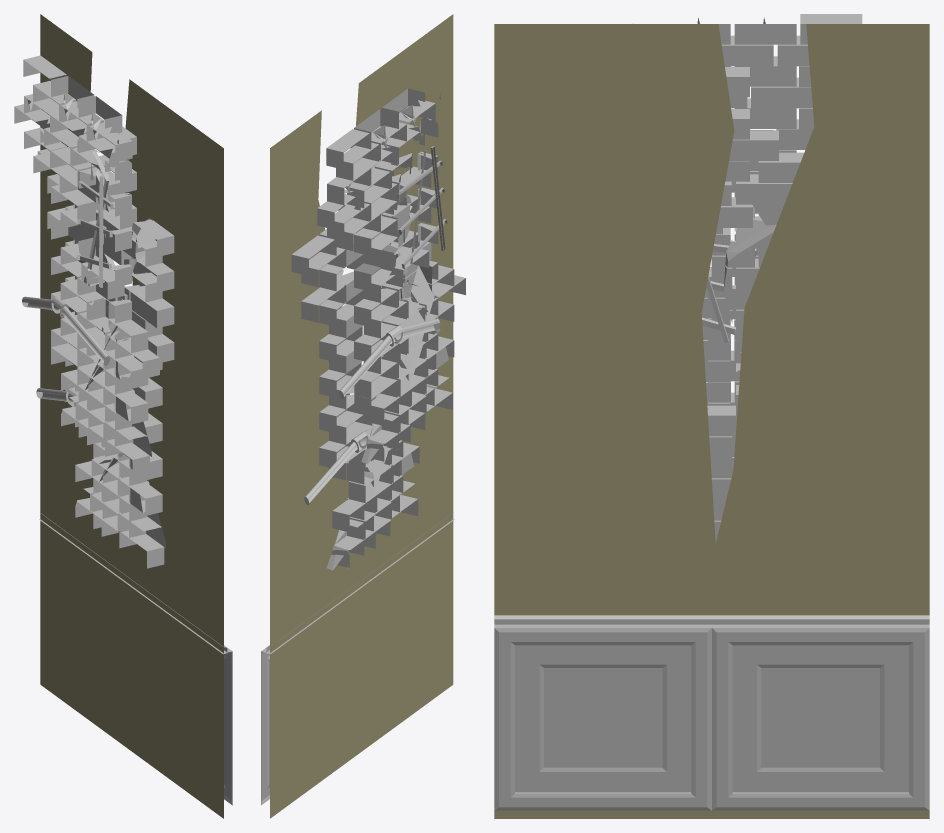
Rendered from Wall_1UnitBroken_Mesh.fbx.
The picture shows the model from 3 angles, left to right: view 1: azimuth 30°, elevation 25°; view 2: azimuth 150°, elevation 25°; view 3: azimuth 270°, elevation 25°; orthographic projection. The views are drawn at different scales.
Visible parts, largest first — view 1: Wall_1Unit_Broken; view 2: Wall_1Unit_Broken; view 3: Wall_1Unit_Broken.
Boxes of the visible parts, x1=… form: Wall_1Unit_Broken: x1=14, y1=14, x2=232, y2=818; Wall_1Unit_Broken: x1=261, y1=14, x2=465, y2=818; Wall_1Unit_Broken: x1=494, y1=14, x2=929, y2=818.
Bounding box in the file's own units: 0.637 × 6.05 × 3.
